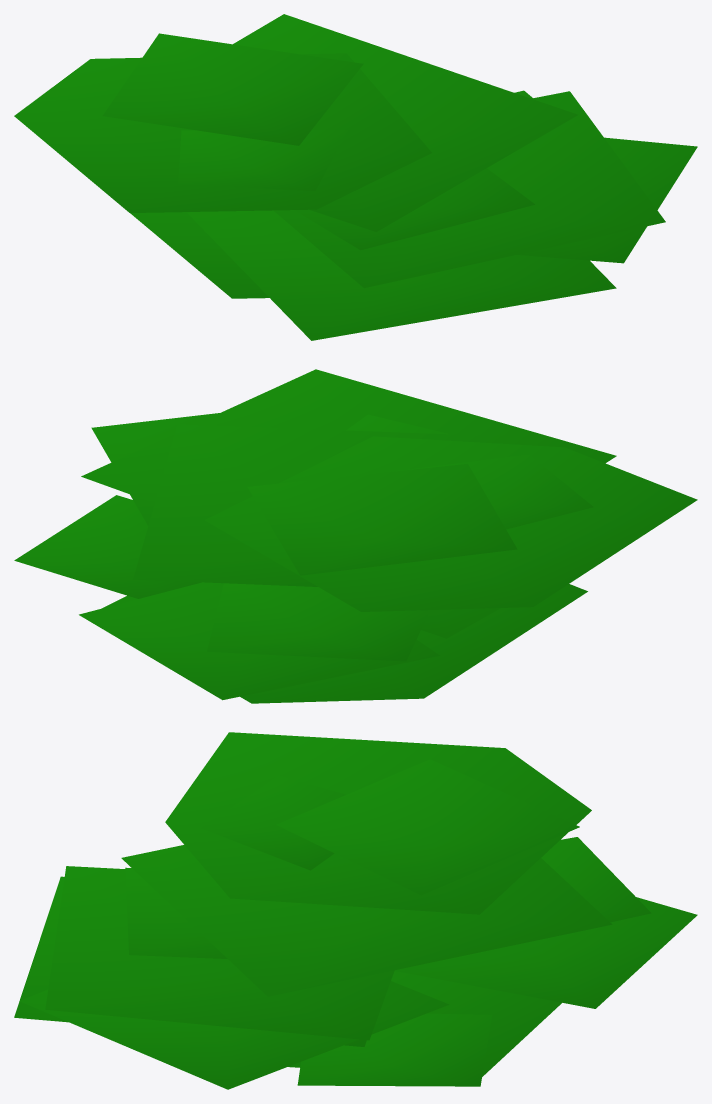
File: FungiPolyp_2.fbx
3 views of the same model, one above another, from view 1: azimuth 30°, elevation 25°; view 2: azimuth 150°, elevation 25°; view 3: azimuth 270°, elevation 25° (orthographic). The views are drawn at different scales.
Parts seen in each view (by area): view 1: FungiPolyp_2; view 2: FungiPolyp_2; view 3: FungiPolyp_2.
Part boxes in pixels (box(x1,y1,x2,y2)): FungiPolyp_2: box(14, 14, 697, 340); FungiPolyp_2: box(14, 369, 697, 703); FungiPolyp_2: box(14, 732, 697, 1089).
Bounding box in the file's own units: 84.48 × 21.45 × 85.92.
